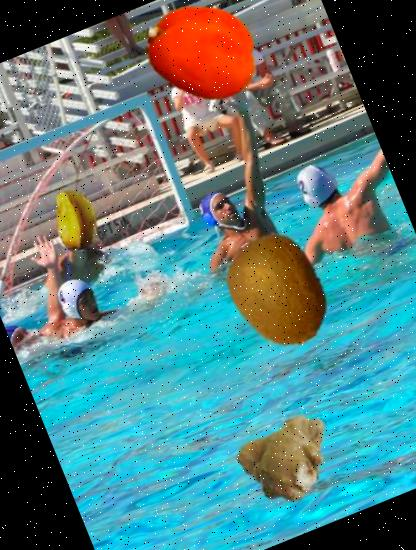Apricot: (130, 0, 273, 123)
Carambula: (36, 179, 117, 260)
Ginger: (221, 390, 346, 514)
Kiwi: (202, 216, 352, 366)
